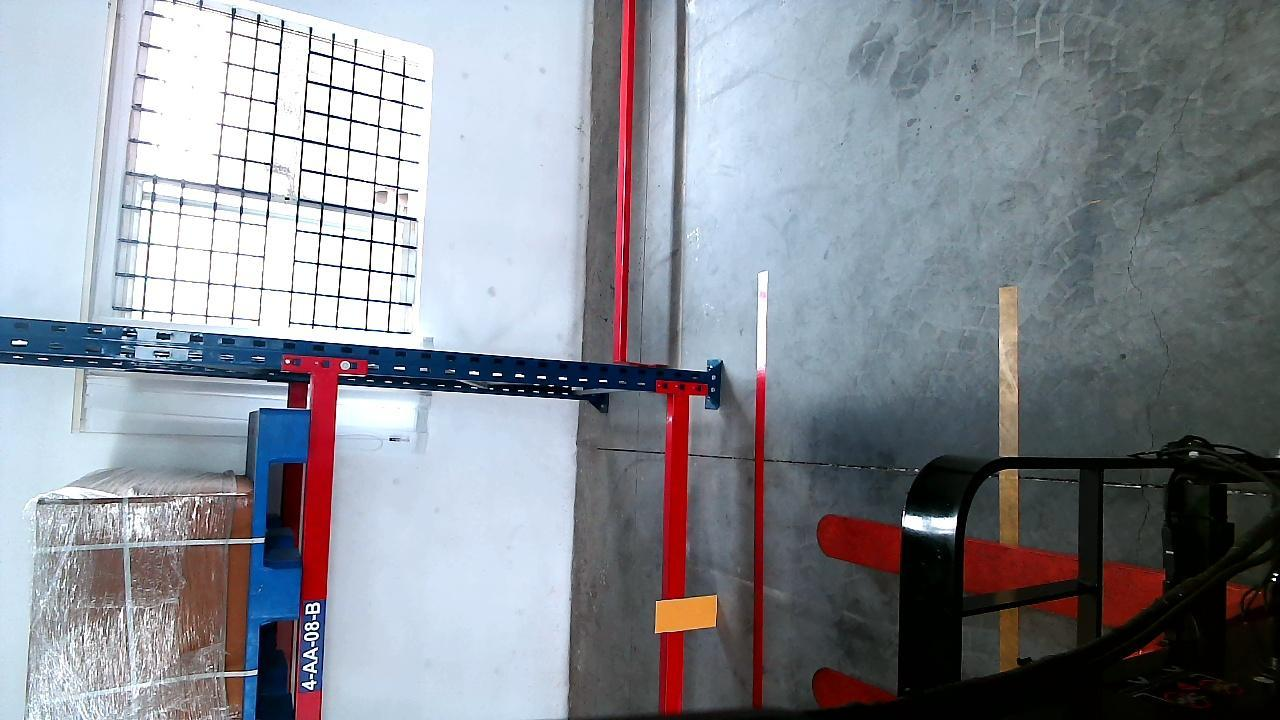red_line: (747, 276, 774, 720)
yellow_line: (997, 285, 1019, 669)
